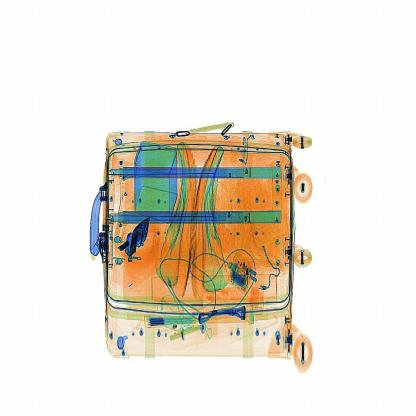knife: (109, 227, 134, 264)
